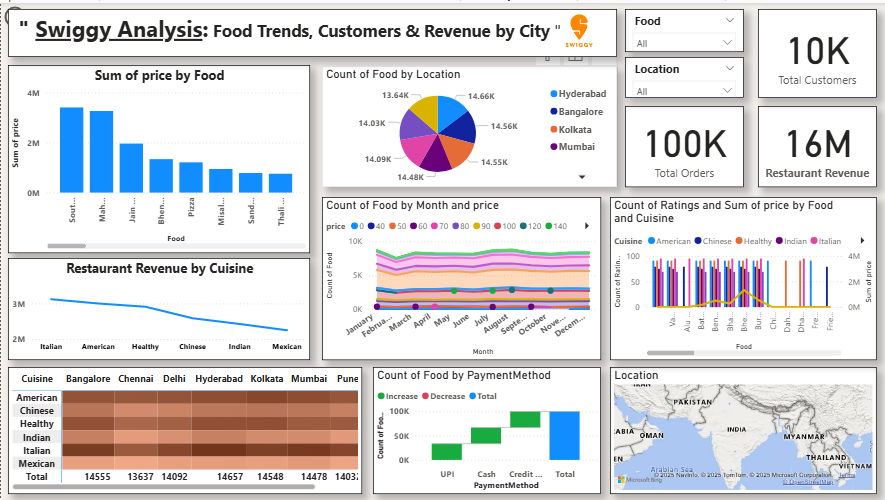

The dashboard page shown, as its layout file describes it:
{"tool":"powerbi","page":{"name":"Page 1","canvas":[1280,720],"ordinal":0},"visuals":[{"type":"filledMap","fields":{"Category":["customers.Location"]},"box":[877,524.2,384.5,182.9],"z":0},{"type":"stackedAreaChart","fields":{"Category":["customers.SignupDate.Variation.Date Hierarchy.Month"],"Series":["orders.price"],"Y":["CountNonNull(orders.Food)"]},"box":[462.2,279.4,401.8,234.7],"z":1000},{"type":"clusteredColumnChart","fields":{"Category":["orders.Food"],"Y":["Sum(orders.price)"]},"box":[10.1,89.3,434.9,270.7],"z":2000},{"type":"actionButton","box":[0,0,100,40],"z":3000},{"type":"lineChart","fields":{"Category":["restaurants.Cuisine"],"Y":["customers.Restaurant Revenue"]},"box":[10.1,367.2,434.9,146.9],"z":4000},{"type":"pieChart","fields":{"Category":["customers.Location"],"Y":["CountNonNull(orders.Food)"]},"box":[462.2,90.7,424.8,174.2],"z":5000},{"type":"lineClusteredColumnComboChart","fields":{"Category":["orders.Food"],"Series":["restaurants.Cuisine"],"Y":["CountNonNull(restaurants.Ratings)"],"Y2":["Sum(orders.price)"]},"box":[877,279.4,384.5,234.7],"z":6000},{"type":"waterfallChart","fields":{"Category":["orders.PaymentMethod"],"Y":["CountNonNull(orders.Food)"]},"box":[535.7,524.2,328.3,182.9],"z":7000},{"type":"card","fields":{"Values":["customers.Restaurant Revenue"]},"box":[1090.1,148.3,171.4,116.6],"z":8000},{"type":"pivotTable","fields":{"Rows":["restaurants.Cuisine"],"Values":["customers.Total Orders"],"Columns":["customers.Location"]},"box":[10.1,524.2,509.8,182.9],"z":9000},{"type":"card","fields":{"Values":["customers.Total Orders"]},"box":[898.6,148.3,171.4,116.6],"z":10000},{"type":"card","fields":{"Values":["customers.Total Customers"]},"box":[1090.1,8.6,171.4,128.2],"z":11000},{"type":"slicer","fields":{"Values":["orders.Food"]},"box":[898.6,8.6,171.4,61.9],"z":12000},{"type":"slicer","fields":{"Values":["customers.Location"]},"box":[898.6,77.8,171.4,59],"z":13000},{"type":"textbox","box":[10.1,8.6,877,69.1],"z":14000},{"type":"image","box":[774.7,8.6,112.3,61.9],"z":15000}]}

Visuals, with their boxes in screenshot pixels (x1, y1, x2, y2), scaled from the page's 1280x720 canvas onto the 885x500 screenshot:
filledMap - customers.Location: box=[606, 364, 872, 491]
stackedAreaChart - customers.SignupDate.Variation.Date Hierarchy.Month x orders.price: box=[320, 194, 597, 357]
clusteredColumnChart - orders.Food x Sum(orders.price): box=[7, 62, 308, 250]
actionButton: box=[0, 0, 69, 28]
lineChart - restaurants.Cuisine x customers.Restaurant Revenue: box=[7, 255, 308, 357]
pieChart - customers.Location x CountNonNull(orders.Food): box=[320, 63, 613, 184]
lineClusteredColumnComboChart - orders.Food x restaurants.Cuisine: box=[606, 194, 872, 357]
waterfallChart - orders.PaymentMethod x CountNonNull(orders.Food): box=[370, 364, 597, 491]
card - customers.Restaurant Revenue: box=[754, 103, 872, 184]
pivotTable - restaurants.Cuisine x customers.Total Orders: box=[7, 364, 359, 491]
card - customers.Total Orders: box=[621, 103, 740, 184]
card - customers.Total Customers: box=[754, 6, 872, 95]
slicer - orders.Food: box=[621, 6, 740, 49]
slicer - customers.Location: box=[621, 54, 740, 95]
textbox: box=[7, 6, 613, 54]
image: box=[536, 6, 613, 49]
